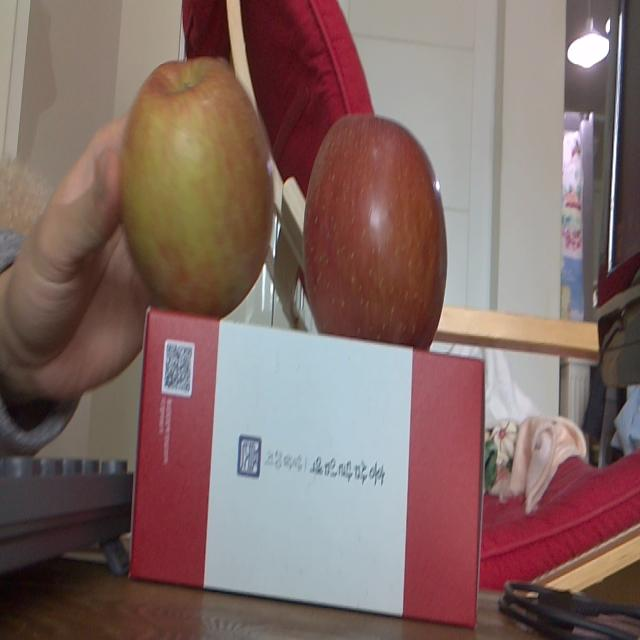apple: (118, 56, 276, 321), (302, 111, 448, 354)
